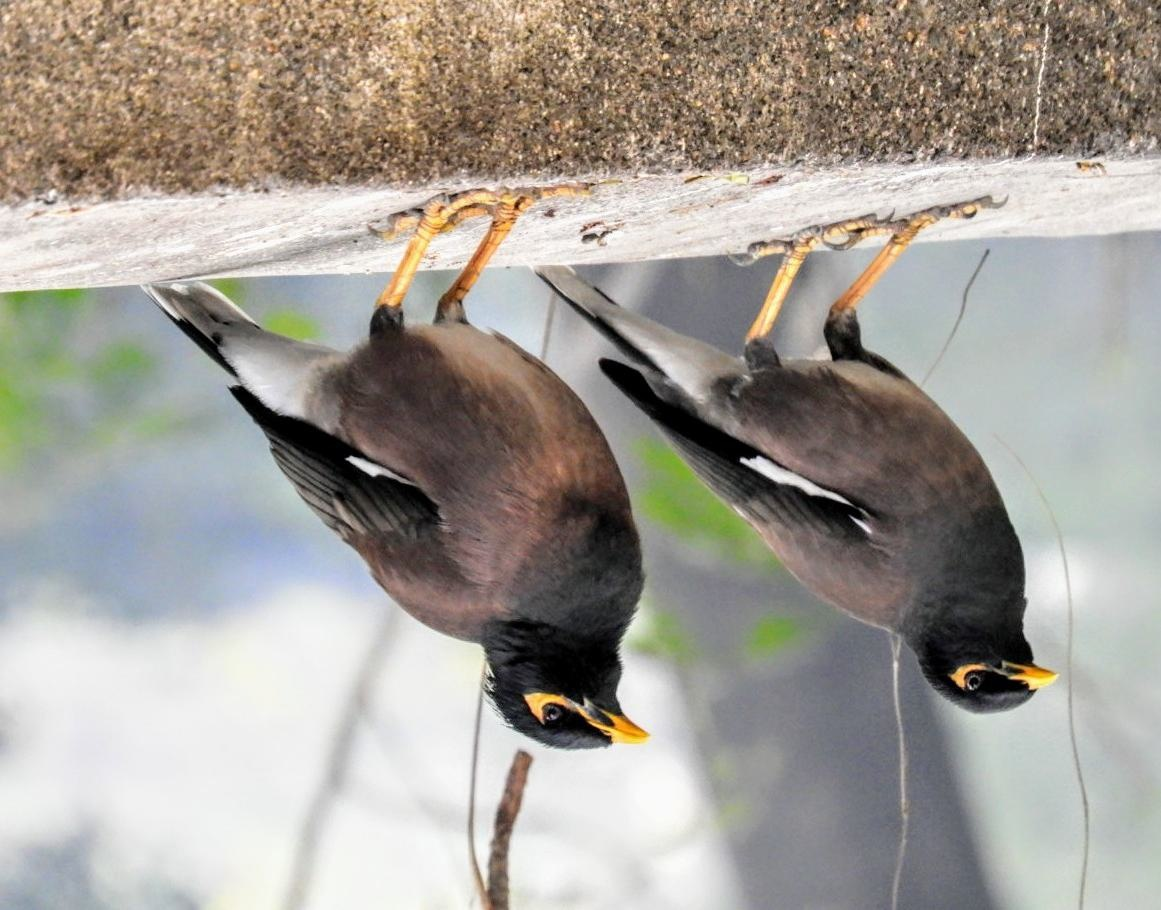myna: (201, 228, 669, 758), (703, 166, 1097, 760)
